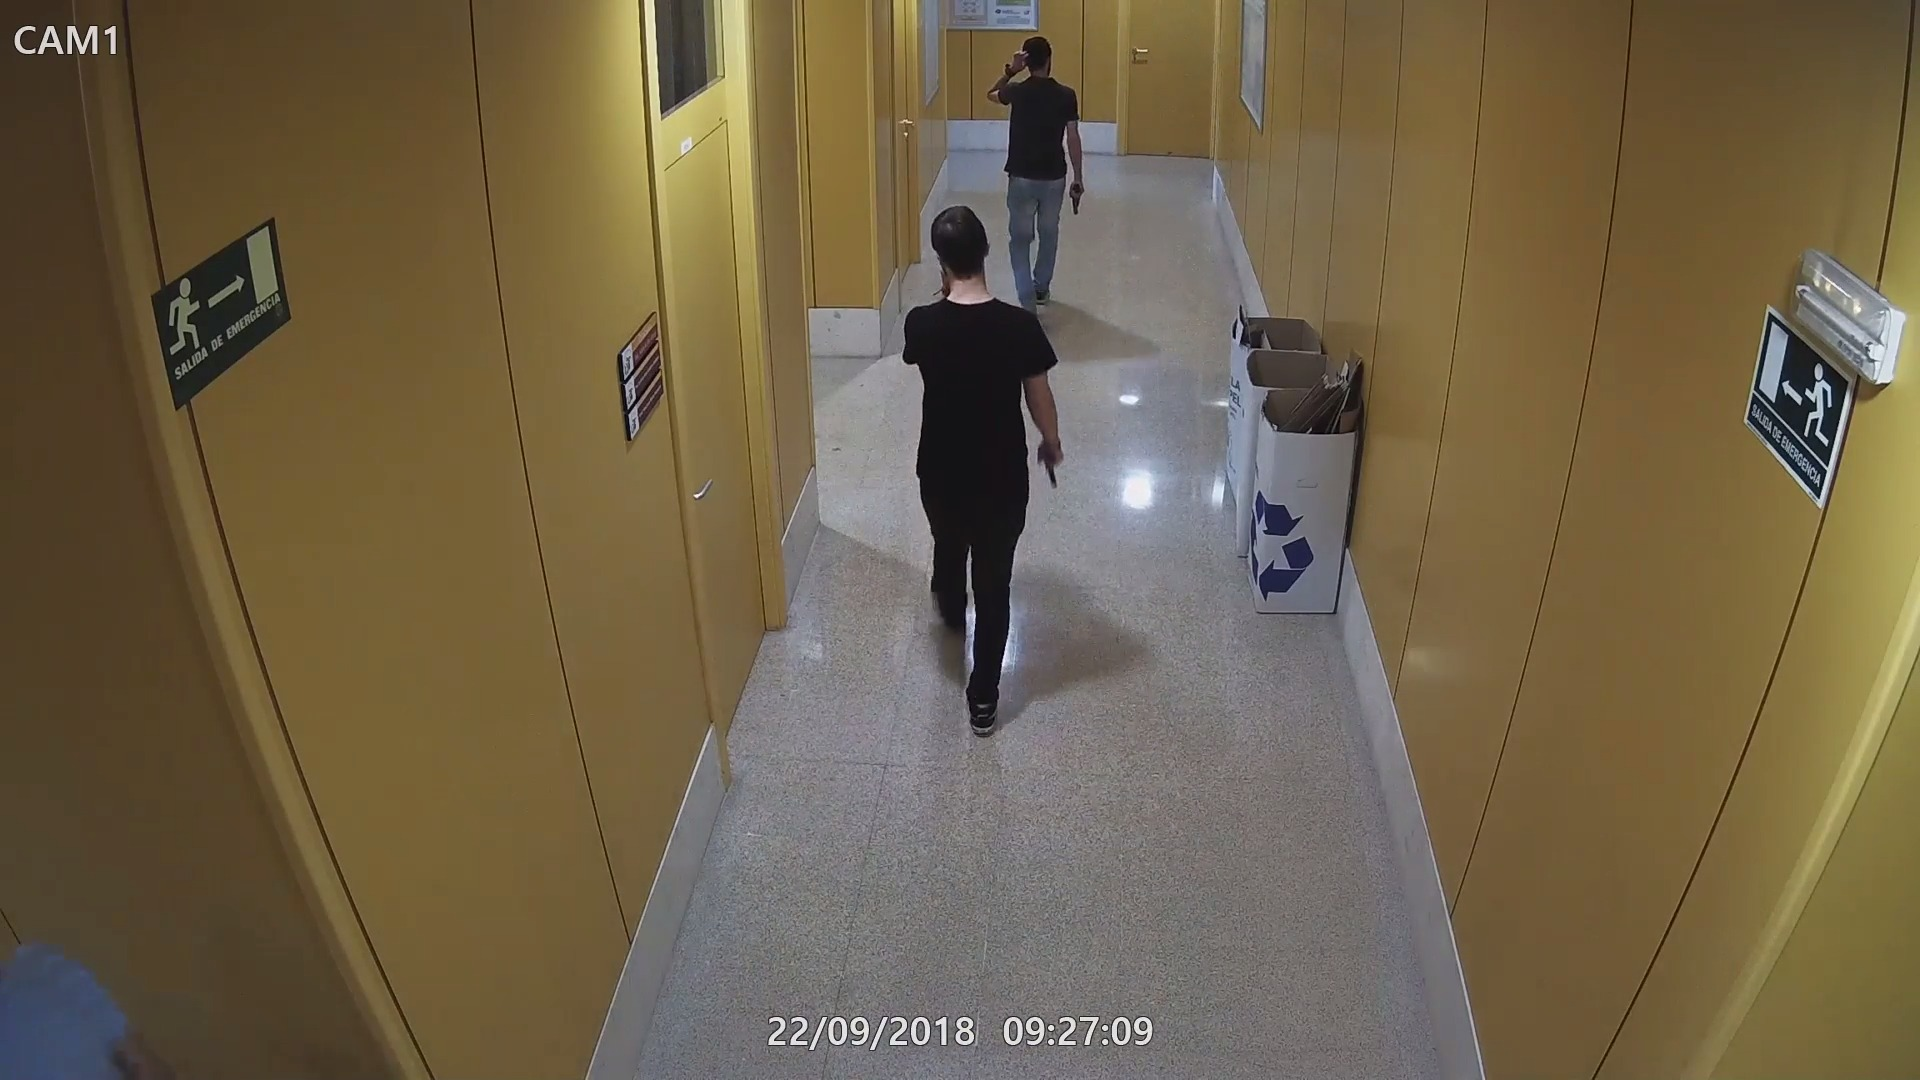pistol: (1035, 438, 1068, 491), (1064, 179, 1091, 215)
